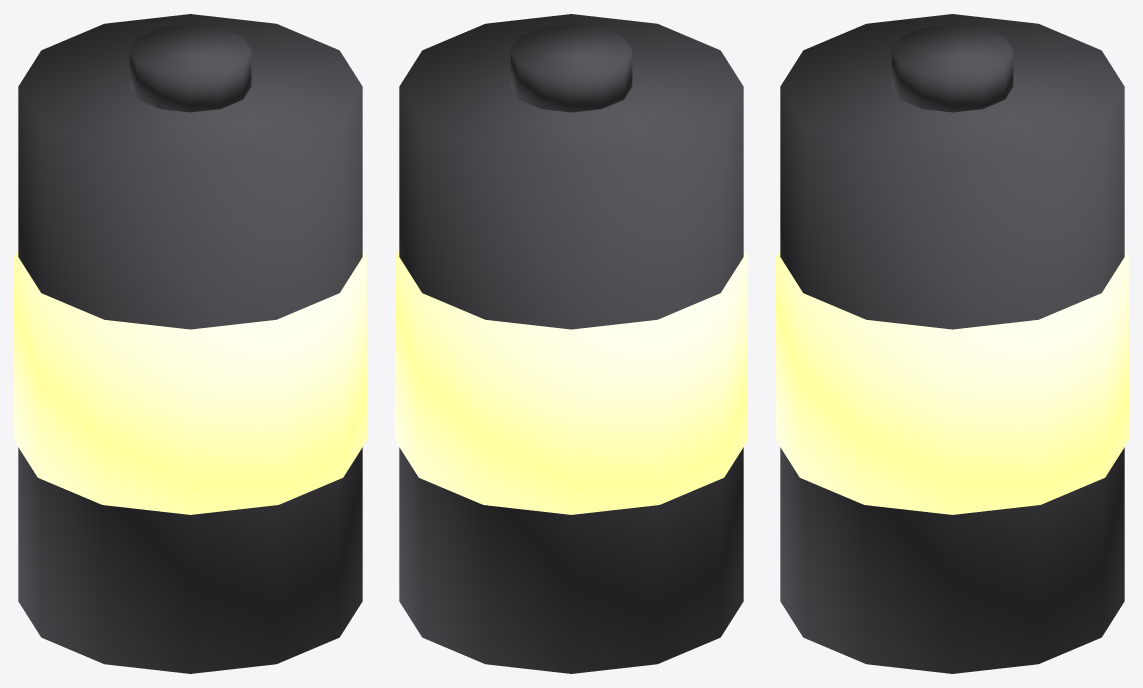
Rendered from battery.glb.
3 renders of one model, left to right at view 1: azimuth 30°, elevation 25°; view 2: azimuth 150°, elevation 25°; view 3: azimuth 270°, elevation 25°, orthographic.
Parts seen in each view (by area): view 1: battery; view 2: battery; view 3: battery.
Boxes of the visible parts, left/top/right/bottom form: battery: left=14, top=14, right=366, bottom=673; battery: left=395, top=14, right=747, bottom=673; battery: left=776, top=14, right=1128, bottom=673.
Size of the model in its own units: 0.0696 by 0.12 by 0.0696.
